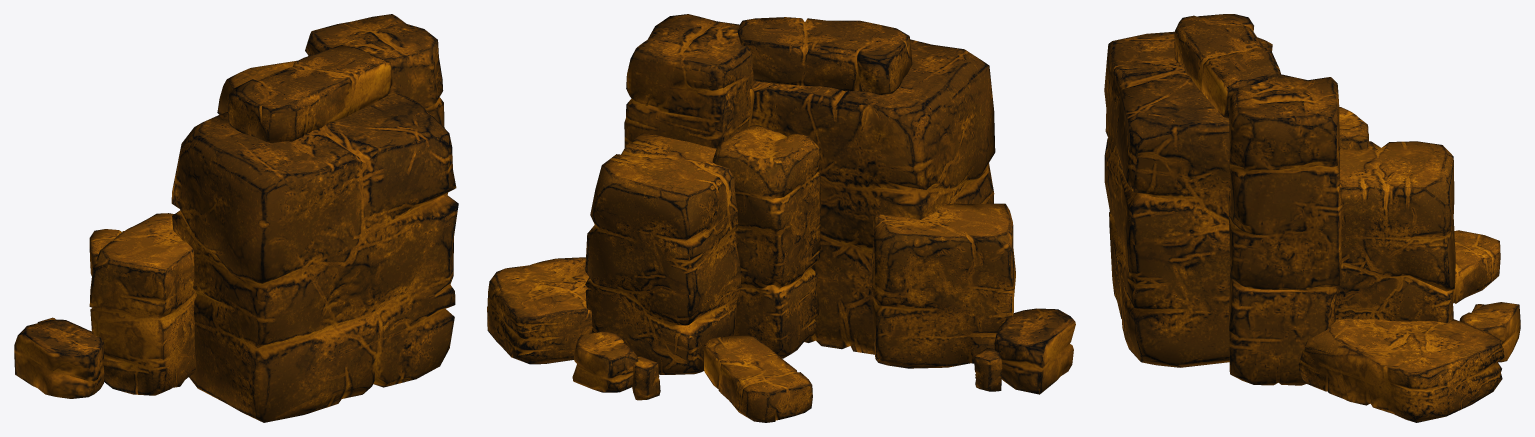
File: rocks.glb
The picture shows the model from 3 angles, left to right: view 1: azimuth 30°, elevation 25°; view 2: azimuth 150°, elevation 25°; view 3: azimuth 270°, elevation 25°; orthographic projection.
Visible parts, largest first — view 1: rock1_rockset1_0; view 2: rock1_rockset1_0; view 3: rock1_rockset1_0.
Part boxes in pixels (x1,y1,x2,y2): rock1_rockset1_0: [14, 14, 458, 422]; rock1_rockset1_0: [487, 14, 1075, 422]; rock1_rockset1_0: [1104, 14, 1520, 422].
Size of the model in its own units: 15.7 by 8.85 by 11.7.
Materials: 1 (1 with a texture image).
